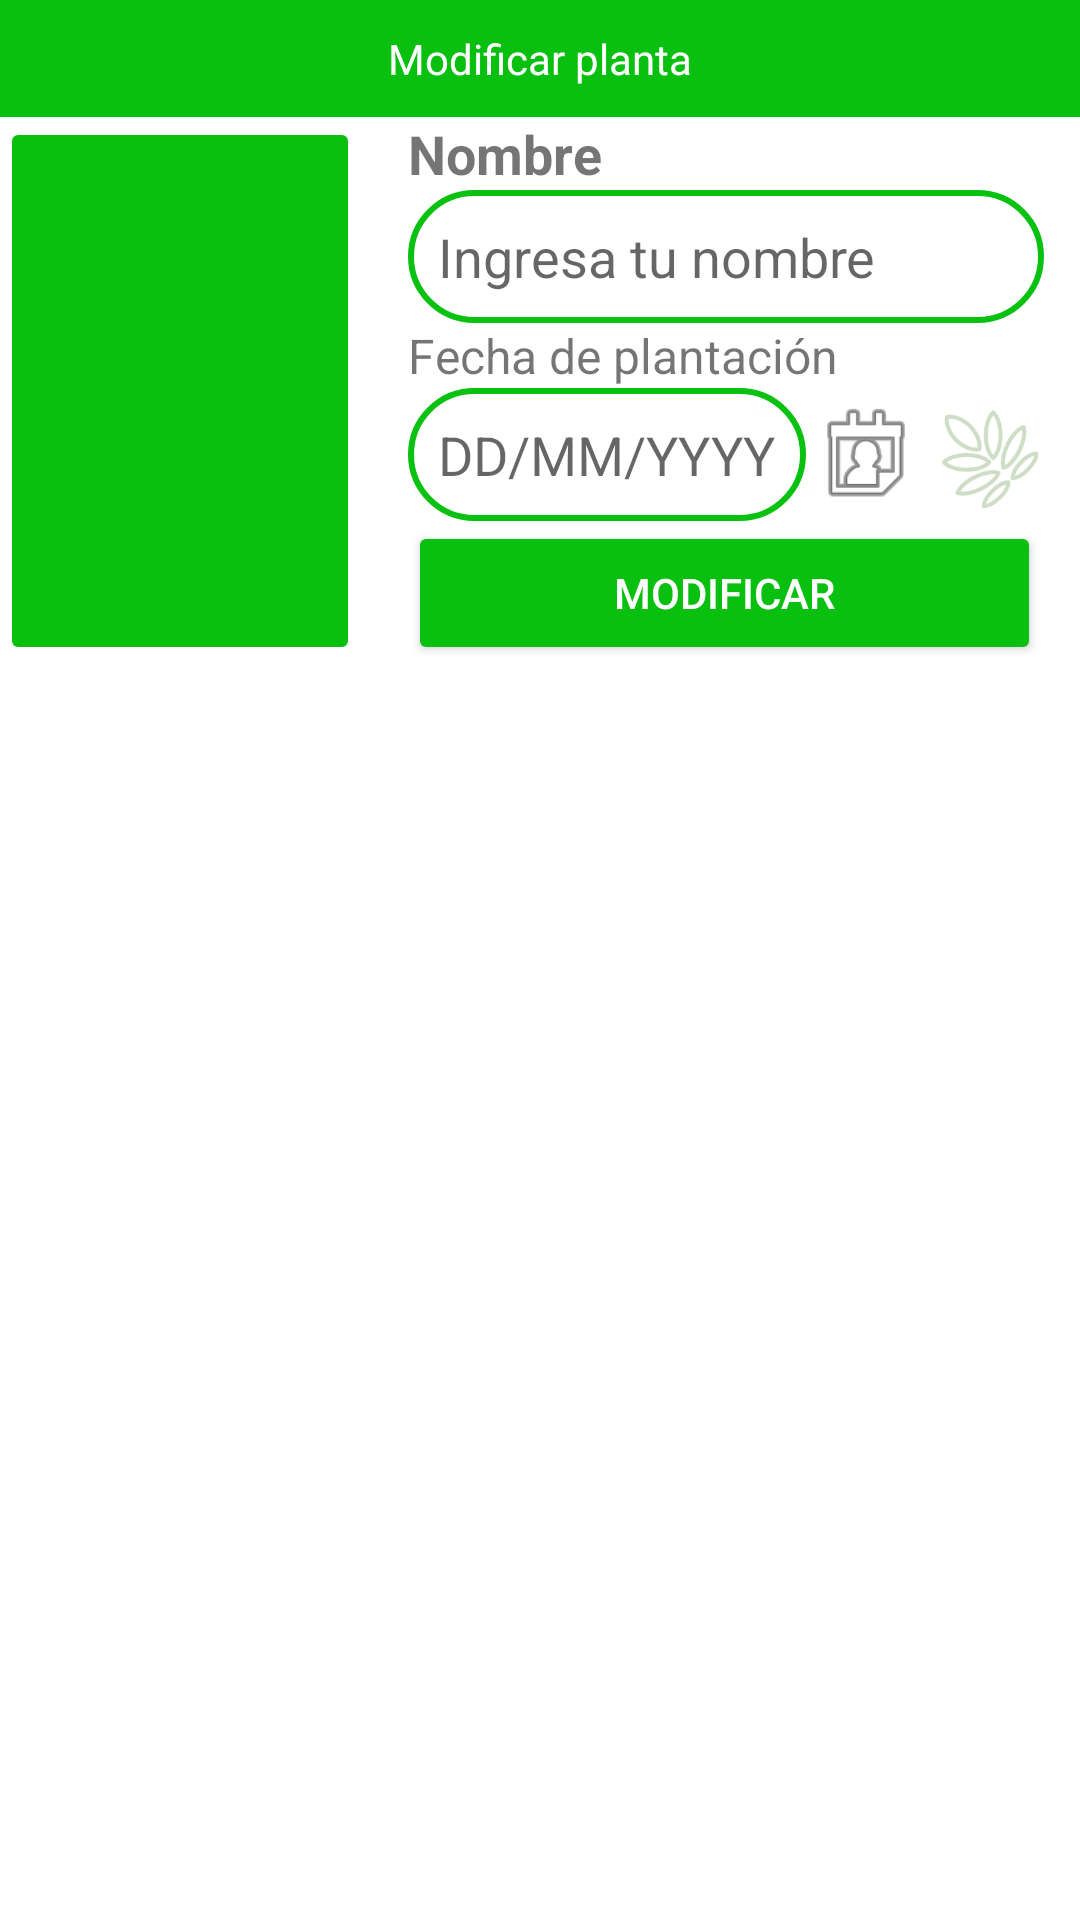

Screen size 1080×1920. Icon name, then its center in pixels as (x=x, y=y):
Calendario: (x=866, y=453)
grain: (x=990, y=459)
